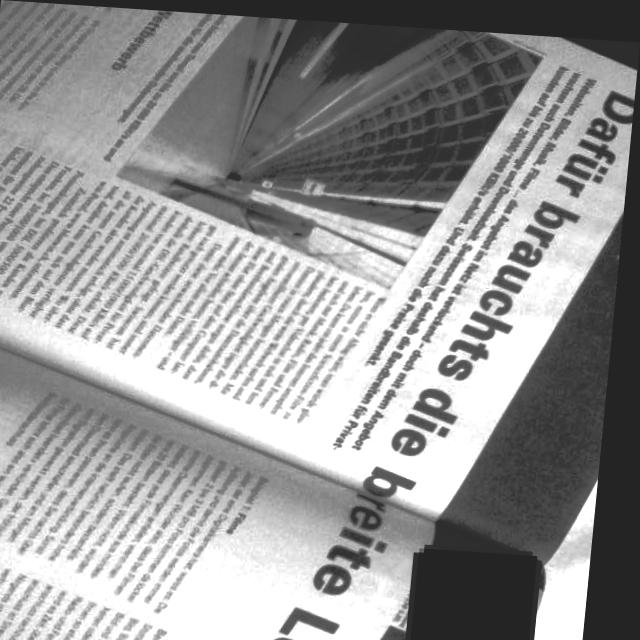qr_code: (420, 542, 547, 640)
